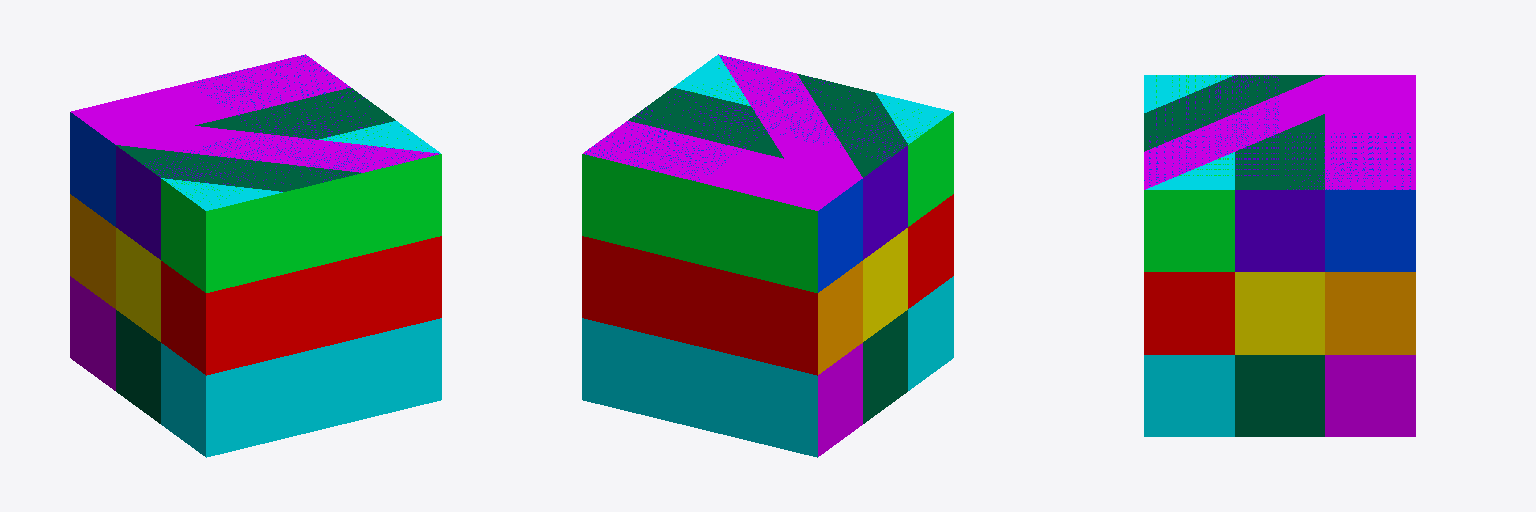
3 renders of one model, left to right at view 1: azimuth 30°, elevation 25°; view 2: azimuth 150°, elevation 25°; view 3: azimuth 270°, elevation 25°, orthographic.
Visible parts, largest first — view 1: cube; view 2: cube; view 3: cube.
Boxes of the visible parts, x1,y1,x2,y2 form: cube: [70, 54, 441, 457]; cube: [582, 54, 953, 457]; cube: [1144, 75, 1415, 436].
Size of the model in its own units: 1 by 1 by 1.
1 materials, 1 textured.